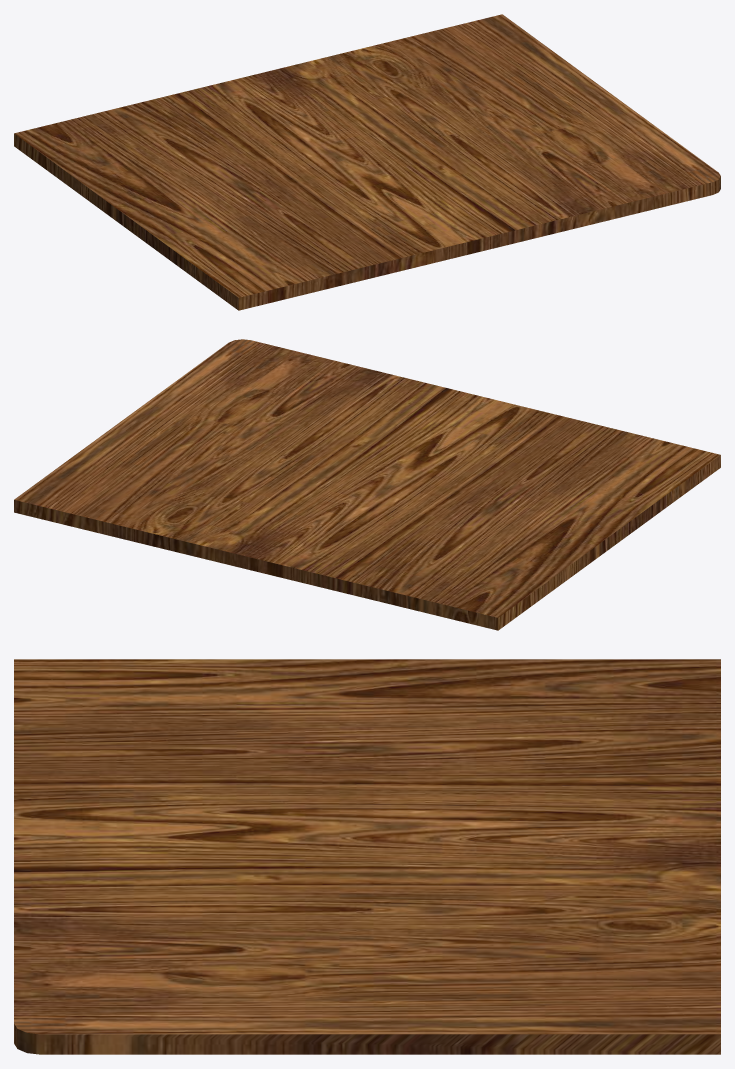
File: floor.fbx
3 renders of one model, top to bottom at view 1: azimuth 30°, elevation 25°; view 2: azimuth 150°, elevation 25°; view 3: azimuth 270°, elevation 25°, orthographic. The views are drawn at different scales.
Parts seen in each view (by area): view 1: Cube; view 2: Cube; view 3: Cube.
Boxes of the visible parts, x1=… form: Cube: x1=14, y1=14, x2=720, y2=310; Cube: x1=14, y1=339, x2=720, y2=630; Cube: x1=14, y1=659, x2=720, y2=1054.
Bounding box in the file's own units: 1004 × 25.3 × 800.
Materials: 1 (1 with a texture image).
